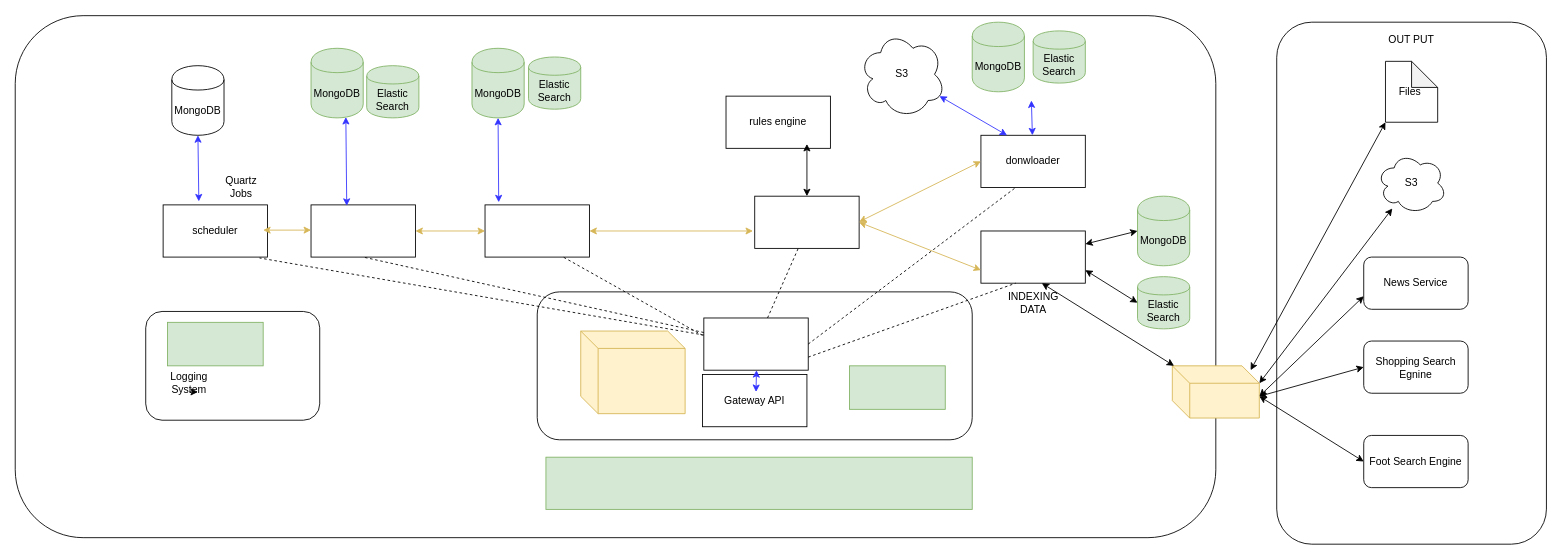
Some shapes in this 1562 by 559 pixel diagram are drawn without their labels. The shapes that lost their labels are listed below. From the top down, each one's box as (x1, y1, x2, y2) in pixels, then its label:
(310, 204, 415, 257): configurator
(484, 204, 589, 257): fetcher
(754, 195, 859, 248): parser
(980, 230, 1085, 283): indexer
(167, 321, 263, 366): consoler
(703, 317, 808, 370): Crawler-Registry
(580, 330, 685, 414): RabbitMQ Message Quue
(849, 365, 945, 409): NetFlix OSS, Xuul Proxy, Ribbon Client
(1171, 365, 1259, 418): Kafka Streaming Data
(545, 456, 972, 509): Gateway Board
